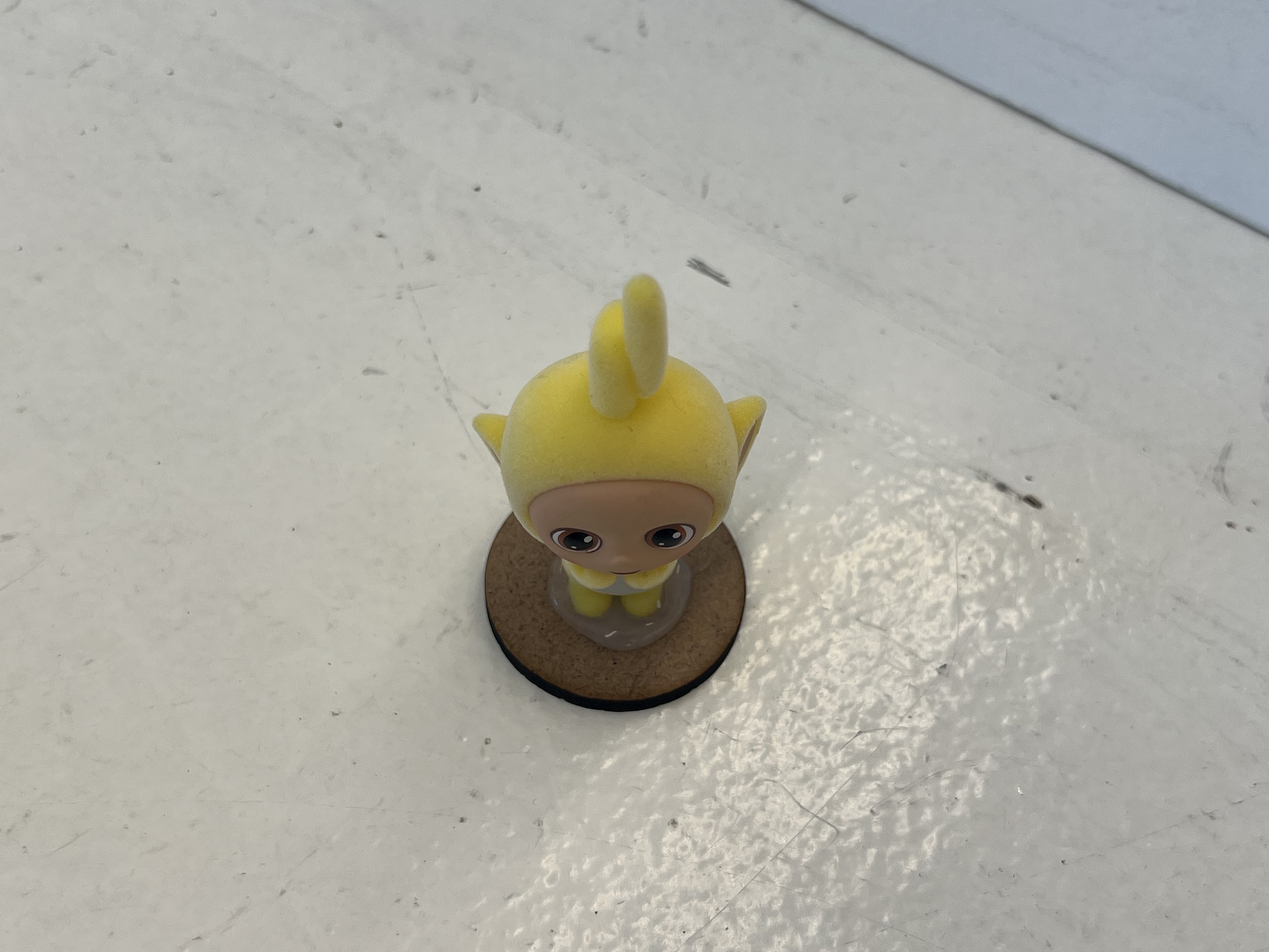teletubby: (473, 275, 766, 617)
